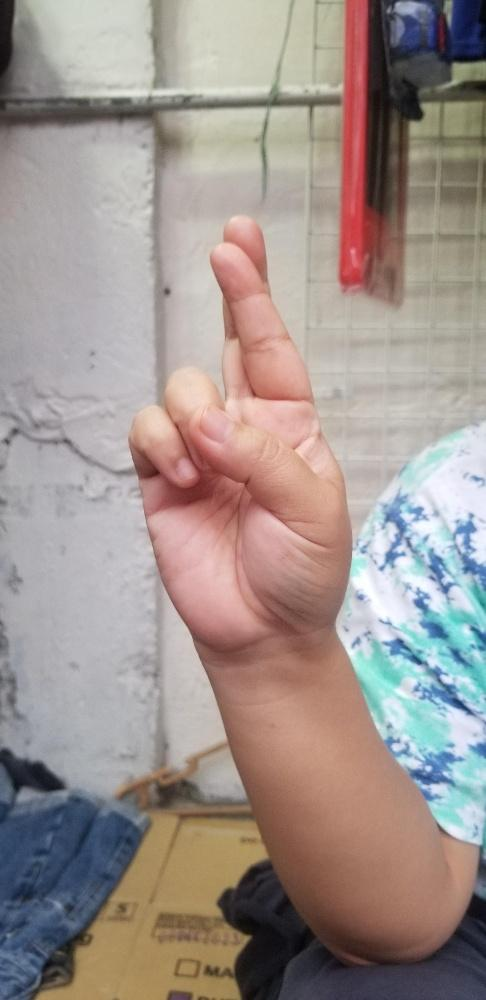r: (126, 209, 352, 652)
